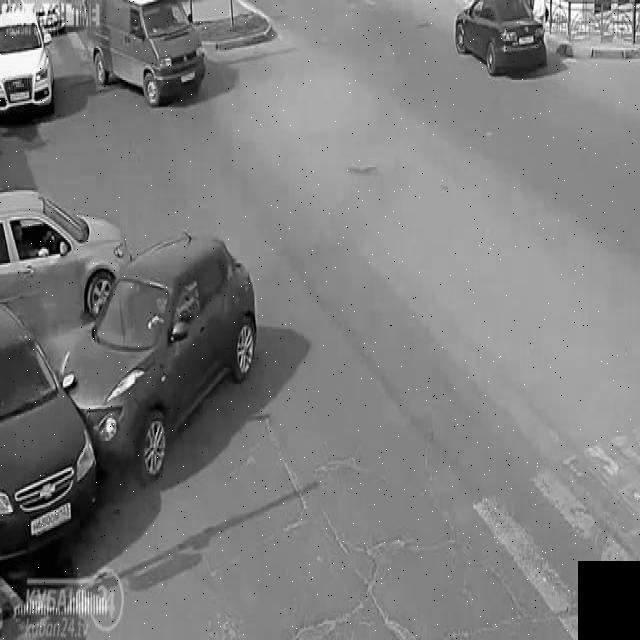moderate: (1, 226, 265, 594)
